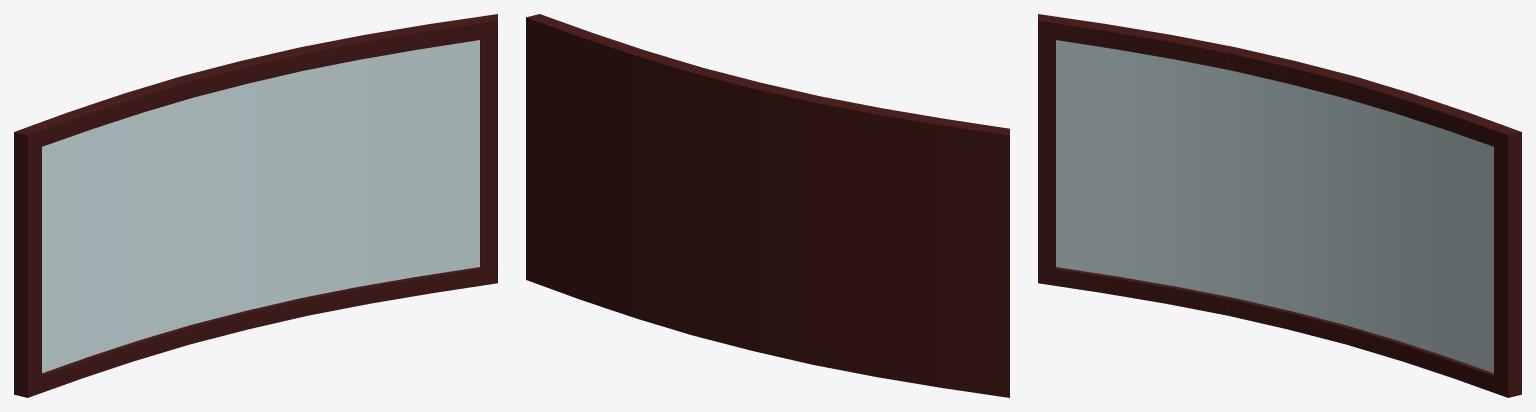
Rendered from Itr_Obj_Monitor_LCD_Curved_Screen_On_02.FBX.
3 views of the same model, side by side, from view 1: azimuth 30°, elevation 25°; view 2: azimuth 150°, elevation 25°; view 3: azimuth 330°, elevation 25° (orthographic).
Visible parts, largest first — view 1: Itr_Obj_Monitor_LCD_Curved_Screen_On_02; view 2: Itr_Obj_Monitor_LCD_Curved_Screen_On_02; view 3: Itr_Obj_Monitor_LCD_Curved_Screen_On_02.
Part boxes in pixels (x1=…): Itr_Obj_Monitor_LCD_Curved_Screen_On_02: x1=14, y1=14, x2=497, y2=397; Itr_Obj_Monitor_LCD_Curved_Screen_On_02: x1=526, y1=14, x2=1009, y2=397; Itr_Obj_Monitor_LCD_Curved_Screen_On_02: x1=1038, y1=14, x2=1521, y2=397.
Size of the model in its own units: 67.75 by 35.13 by 5.58.
